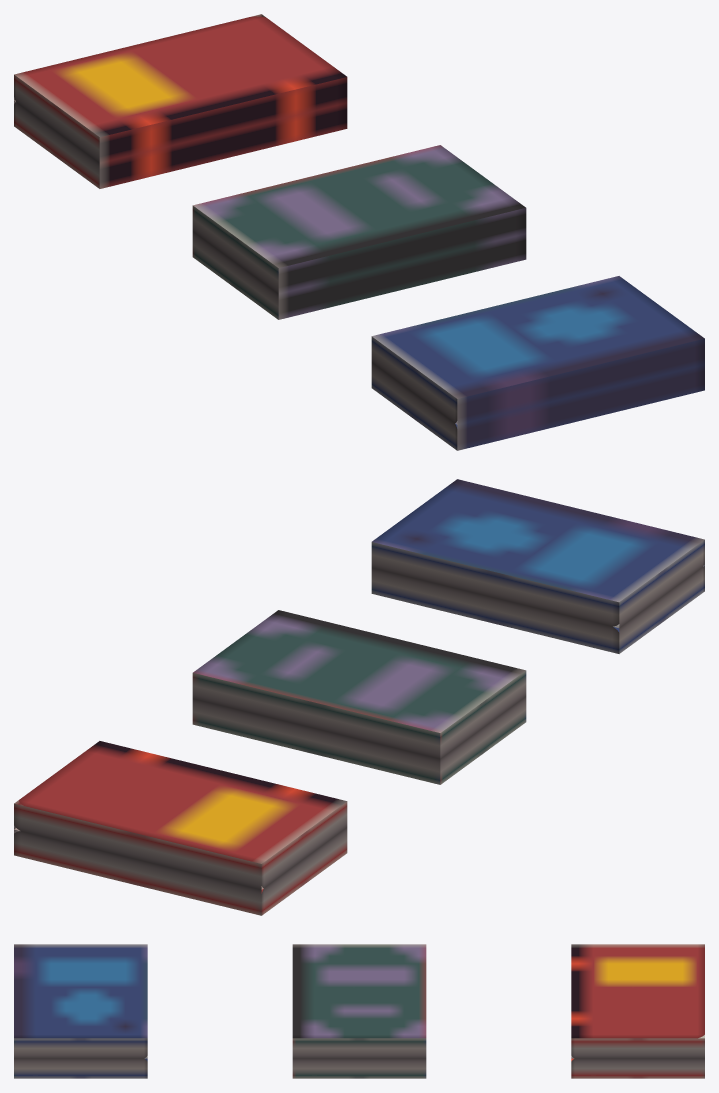
The model's file is Books.fbx.
The picture shows the model from 3 angles, top to bottom: view 1: azimuth 30°, elevation 25°; view 2: azimuth 150°, elevation 25°; view 3: azimuth 270°, elevation 25°; orthographic projection. The views are drawn at different scales.
Visible parts, largest first — view 1: Book.002, Book, Book.004, Book.003, Book.001, Book.005; view 2: Book.002, Book, Book.004, Book.003, Book.001, Book.005; view 3: Book.002, Book, Book.004, Book.003, Book.001, Book.005.
Part boxes in pixels (x1=…): Book.002: x1=192, y1=145, x2=526, y2=293; Book: x1=371, y1=276, x2=704, y2=424; Book.004: x1=14, y1=14, x2=347, y2=162; Book.003: x1=192, y1=231, x2=526, y2=319; Book.001: x1=371, y1=362, x2=704, y2=450; Book.005: x1=14, y1=100, x2=347, y2=188; Book.002: x1=192, y1=610, x2=526, y2=758; Book: x1=371, y1=479, x2=704, y2=627; Book.004: x1=14, y1=741, x2=347, y2=889; Book.003: x1=192, y1=696, x2=526, y2=784; Book.001: x1=371, y1=565, x2=704, y2=653; Book.005: x1=14, y1=827, x2=347, y2=915; Book.002: x1=292, y1=944, x2=426, y2=1058; Book: x1=14, y1=944, x2=147, y2=1058; Book.004: x1=571, y1=944, x2=704, y2=1058; Book.003: x1=292, y1=1058, x2=426, y2=1078; Book.001: x1=14, y1=1058, x2=147, y2=1078; Book.005: x1=571, y1=1058, x2=704, y2=1078.
Bounding box in the file's own units: 80 × 16 × 248.
